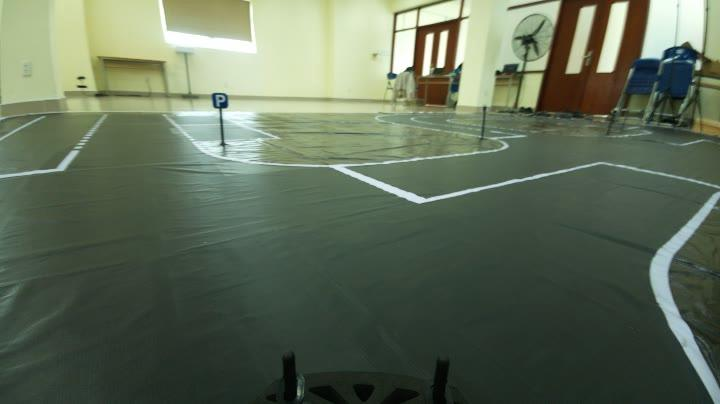parking: (210, 86, 236, 113)
